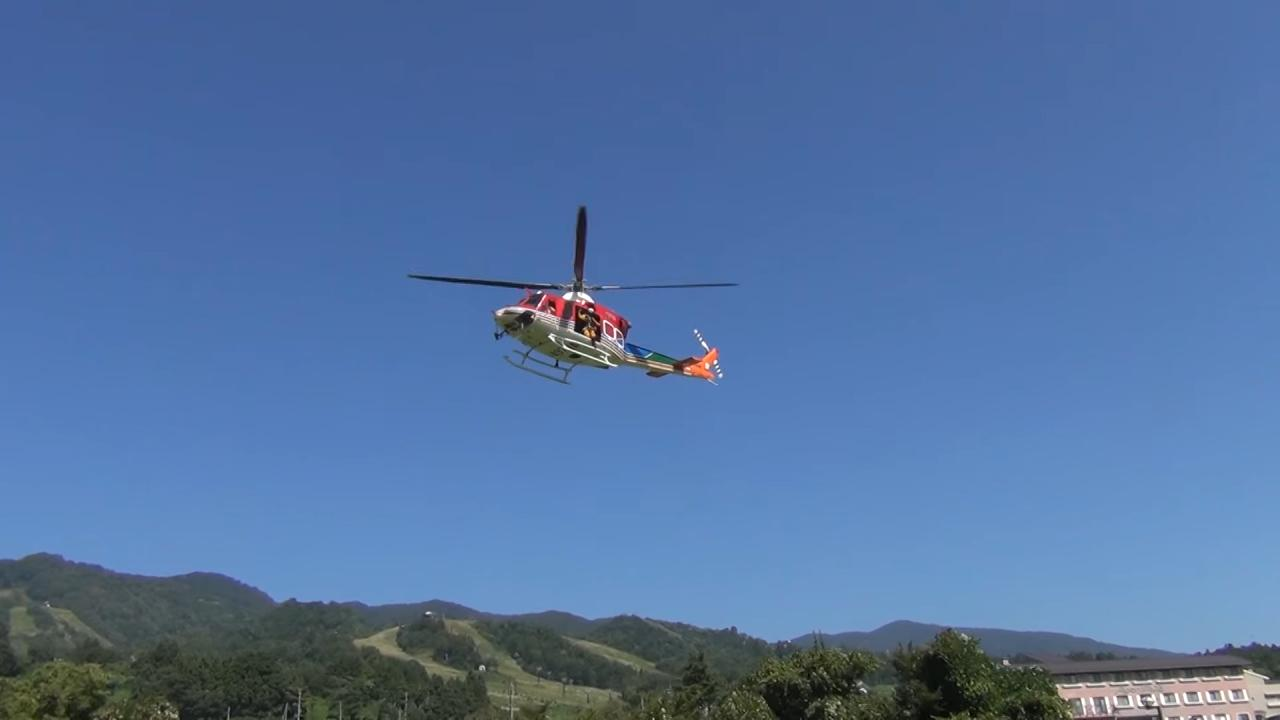Helicopter: (396, 194, 752, 402)
